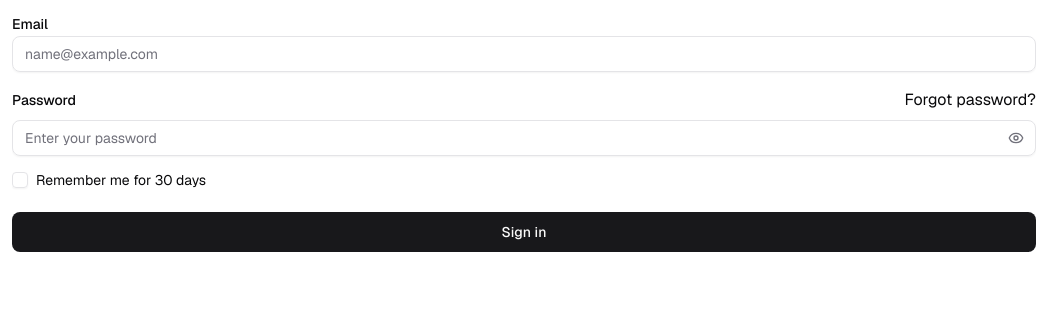
LoginFormModern › Form Validation › should clear errors when user corrects input
Click the button "Sign in": (524, 232) left=12, top=212, right=1036, bottom=252
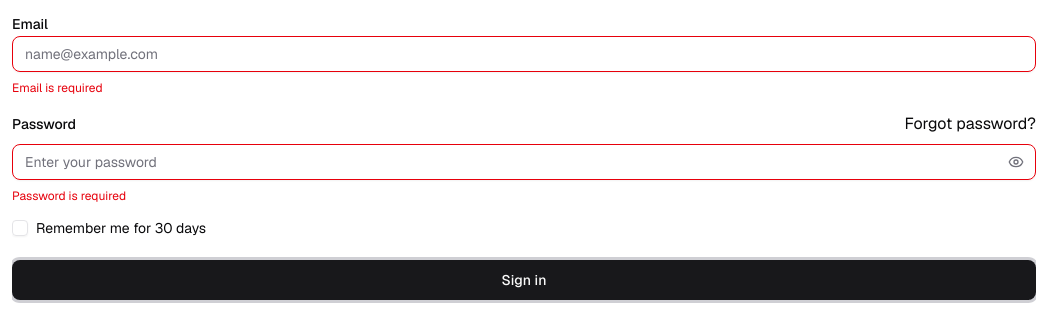
Expected: the text "Email is required" is shown, left=12, top=80, right=103, bottom=96
In the field labelled "Email": (524, 54) left=12, top=36, right=1036, bottom=72, type "test@example.com"
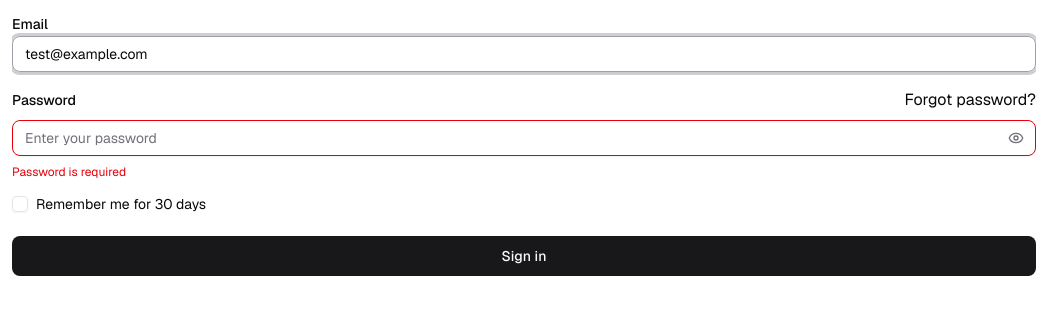
Expected: the text "Email is required" is gone
